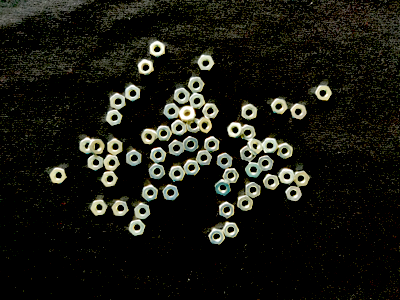nut: (91, 200, 109, 217), (112, 201, 130, 218), (106, 110, 123, 127), (129, 220, 146, 237), (142, 185, 159, 202), (180, 106, 197, 123), (196, 150, 213, 167), (196, 117, 213, 134), (209, 229, 226, 246), (215, 180, 232, 197), (223, 222, 240, 239), (277, 143, 294, 160), (50, 168, 68, 184), (88, 139, 106, 155), (108, 139, 124, 157), (110, 93, 126, 111), (138, 59, 154, 77), (242, 104, 258, 122), (88, 155, 104, 172), (102, 172, 119, 188), (104, 155, 120, 172), (125, 85, 141, 102), (126, 150, 142, 167), (135, 203, 151, 220), (142, 129, 158, 146), (149, 164, 166, 180), (150, 148, 167, 164), (163, 185, 179, 202), (169, 166, 186, 182), (169, 140, 185, 157), (171, 120, 187, 137), (164, 104, 181, 120), (174, 88, 190, 105), (184, 160, 201, 176), (183, 136, 199, 153), (189, 94, 206, 110), (188, 78, 205, 94), (217, 153, 233, 170), (227, 123, 244, 139), (238, 196, 254, 213), (246, 182, 262, 199), (247, 139, 264, 155), (263, 175, 280, 191), (271, 99, 288, 115), (279, 169, 296, 185), (285, 186, 302, 202), (220, 202, 235, 220), (245, 163, 263, 178), (204, 137, 220, 153), (240, 146, 256, 162), (291, 104, 307, 120), (156, 126, 173, 141), (198, 56, 215, 71), (202, 104, 219, 119), (223, 169, 240, 184), (262, 139, 279, 154), (315, 86, 332, 101), (150, 42, 165, 58), (259, 156, 274, 172), (294, 172, 310, 187), (242, 125, 256, 142), (80, 138, 92, 155), (187, 118, 199, 134)
